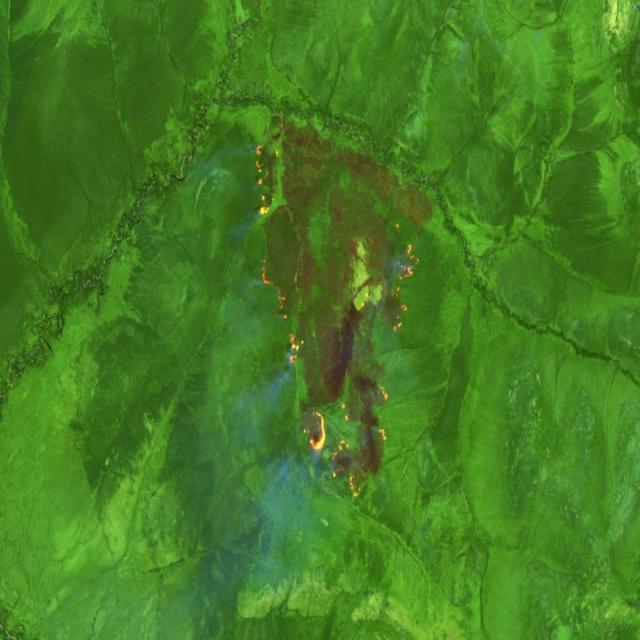fire: (254, 137, 422, 504)
